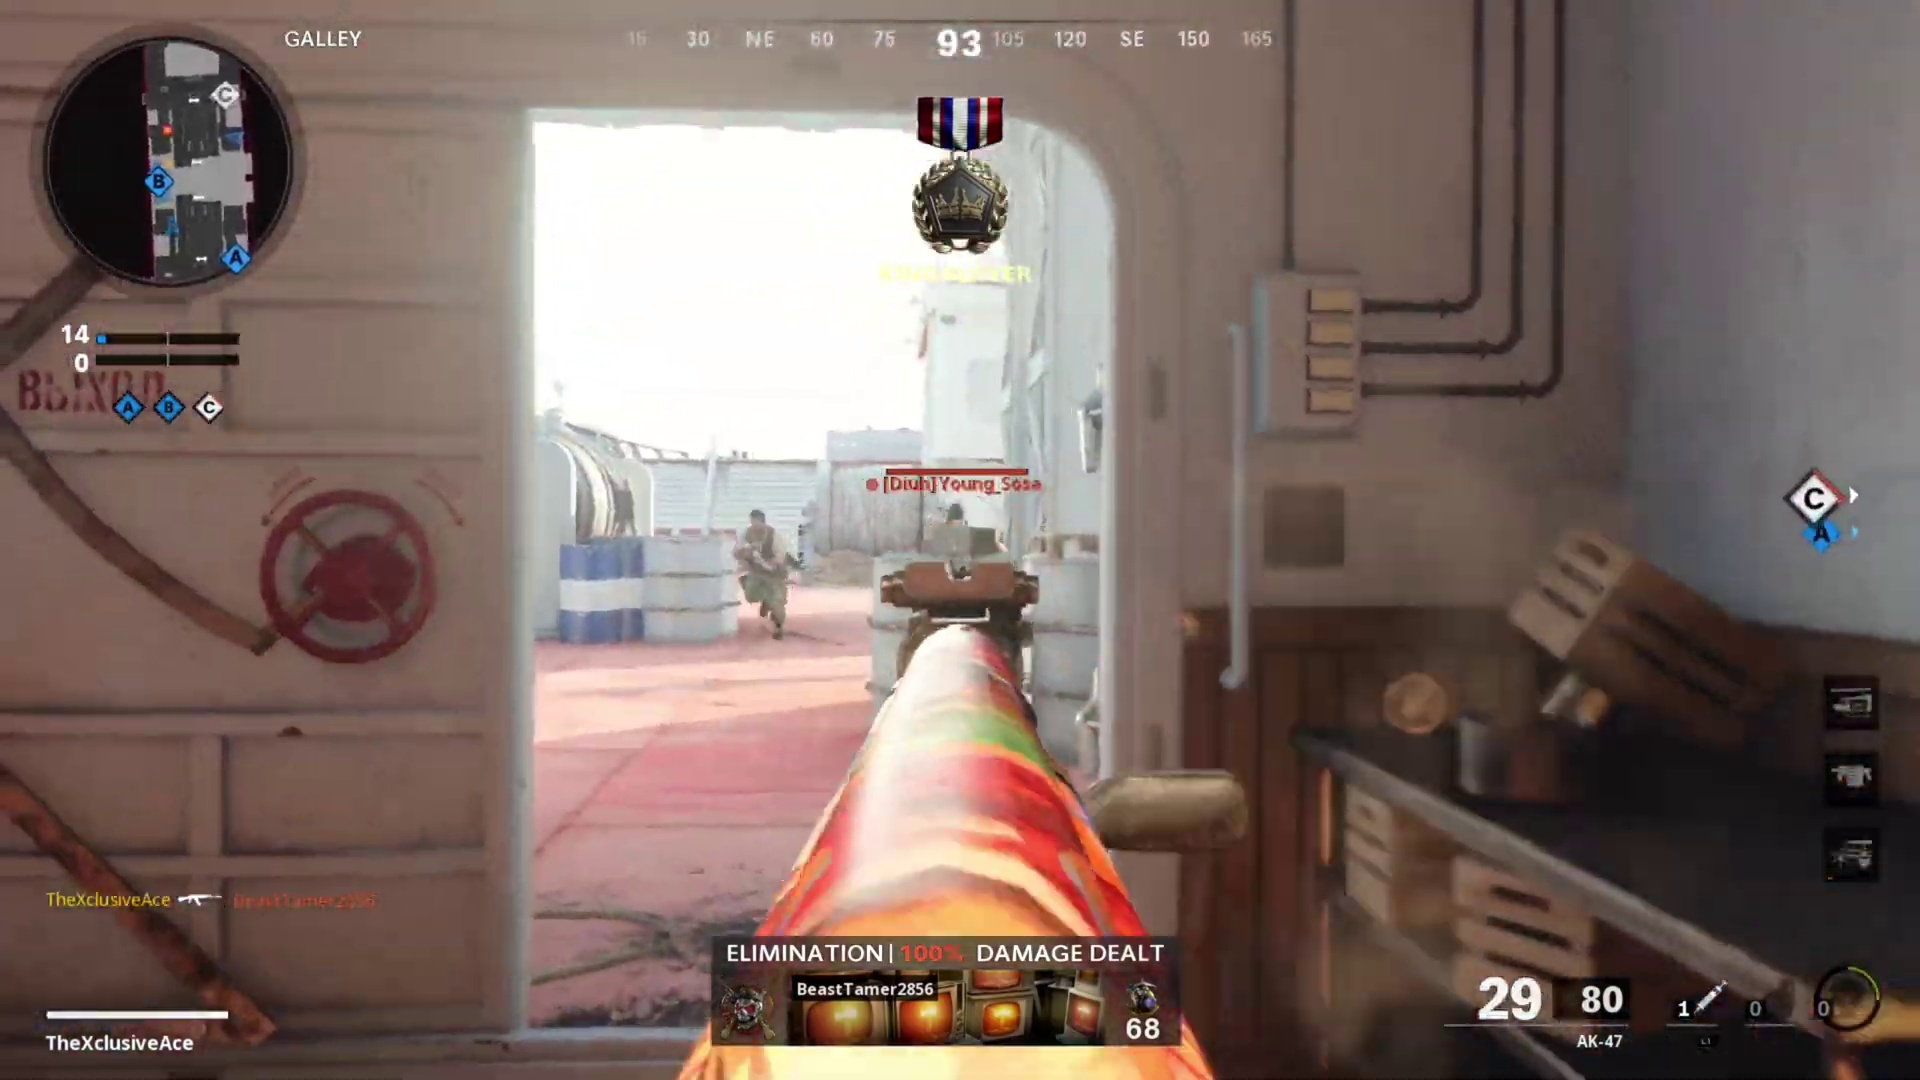head: (937, 502, 962, 530), (742, 506, 767, 534)
person: (735, 508, 791, 637)
